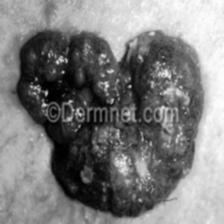Potentially Malignant Skin Tumors: (18, 26, 204, 106), (46, 125, 200, 220)
